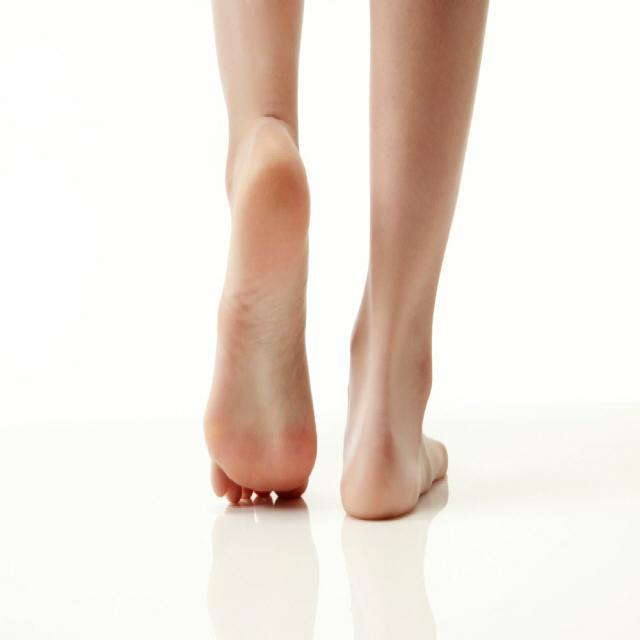No_Shoes: (198, 122, 324, 509), (335, 280, 464, 512)
